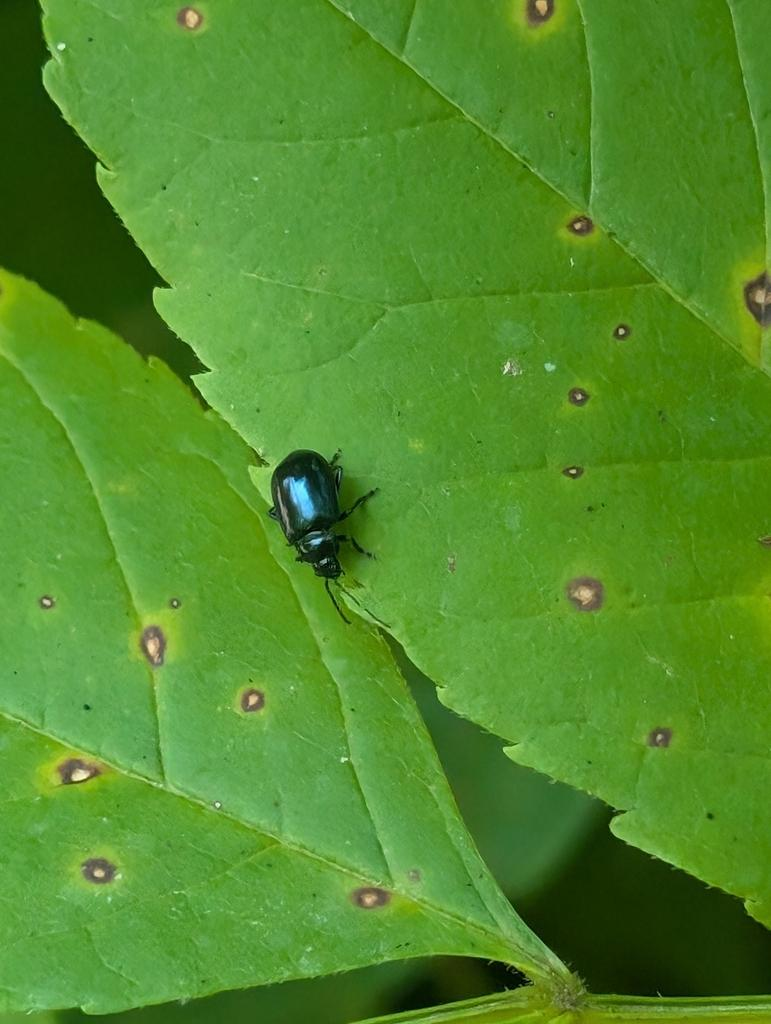flea_beetle: (241, 410, 395, 630)
